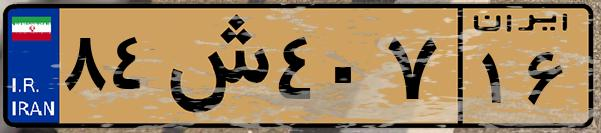0: (330, 28, 385, 110)
1: (475, 38, 525, 113)
4: (270, 28, 330, 110), (110, 28, 158, 98)
6: (525, 38, 570, 115)
7: (385, 28, 445, 110)
8: (57, 26, 110, 100)
ش: (158, 12, 270, 120)
